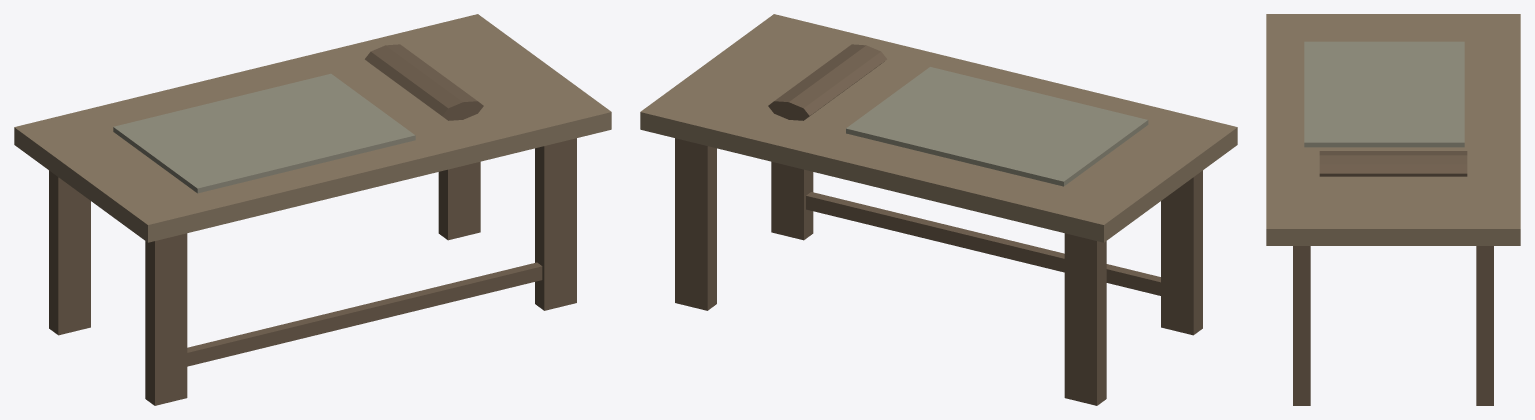
The model's file is dough_table.glb.
The picture shows the model from 3 angles, left to right: view 1: azimuth 30°, elevation 25°; view 2: azimuth 150°, elevation 25°; view 3: azimuth 270°, elevation 25°; orthographic projection. The views are drawn at different scales.
Visible parts, largest first — view 1: dough_table; view 2: dough_table; view 3: dough_table.
Boxes of the visible parts, <box> form: dough_table: <box>14,14,611,405</box>; dough_table: <box>640,14,1237,405</box>; dough_table: <box>1266,14,1520,405</box>.
Bounding box in the file's own units: 1.92 × 0.85 × 0.96.
